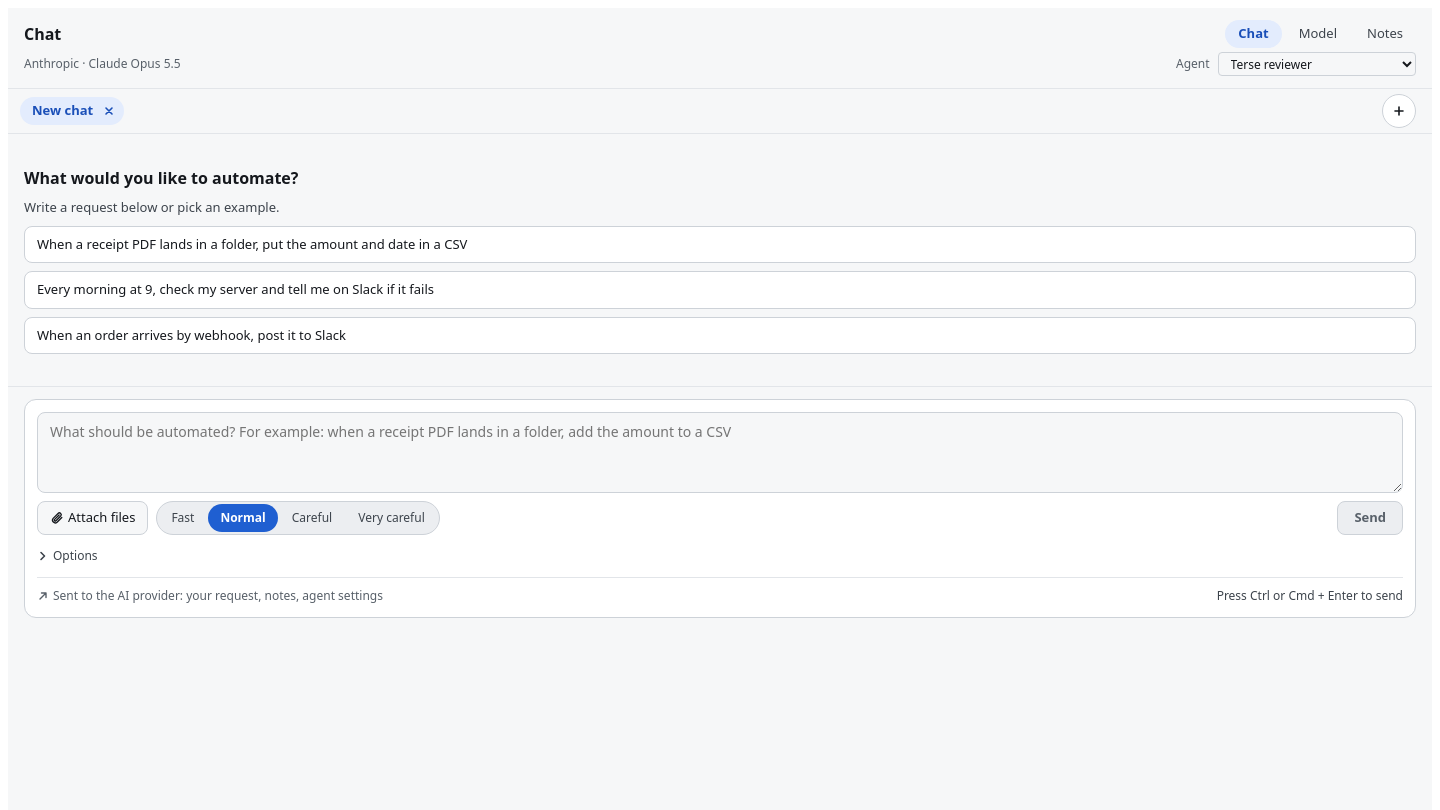
Scenario: plan requests carry the active agent › answers an agent that was deleted elsewhere with the fixed text and a fresh list
Expected: the button "Anthropic · Claude Opus 5.5" is shown, [24,55,1164,73]
Expected: the dropdown labelled "Agent" is shown, [1218,52,1416,76]
Replace the text in the text box named "Your request" with "with an agent that is gone": (720, 452) [37,412,1403,493]
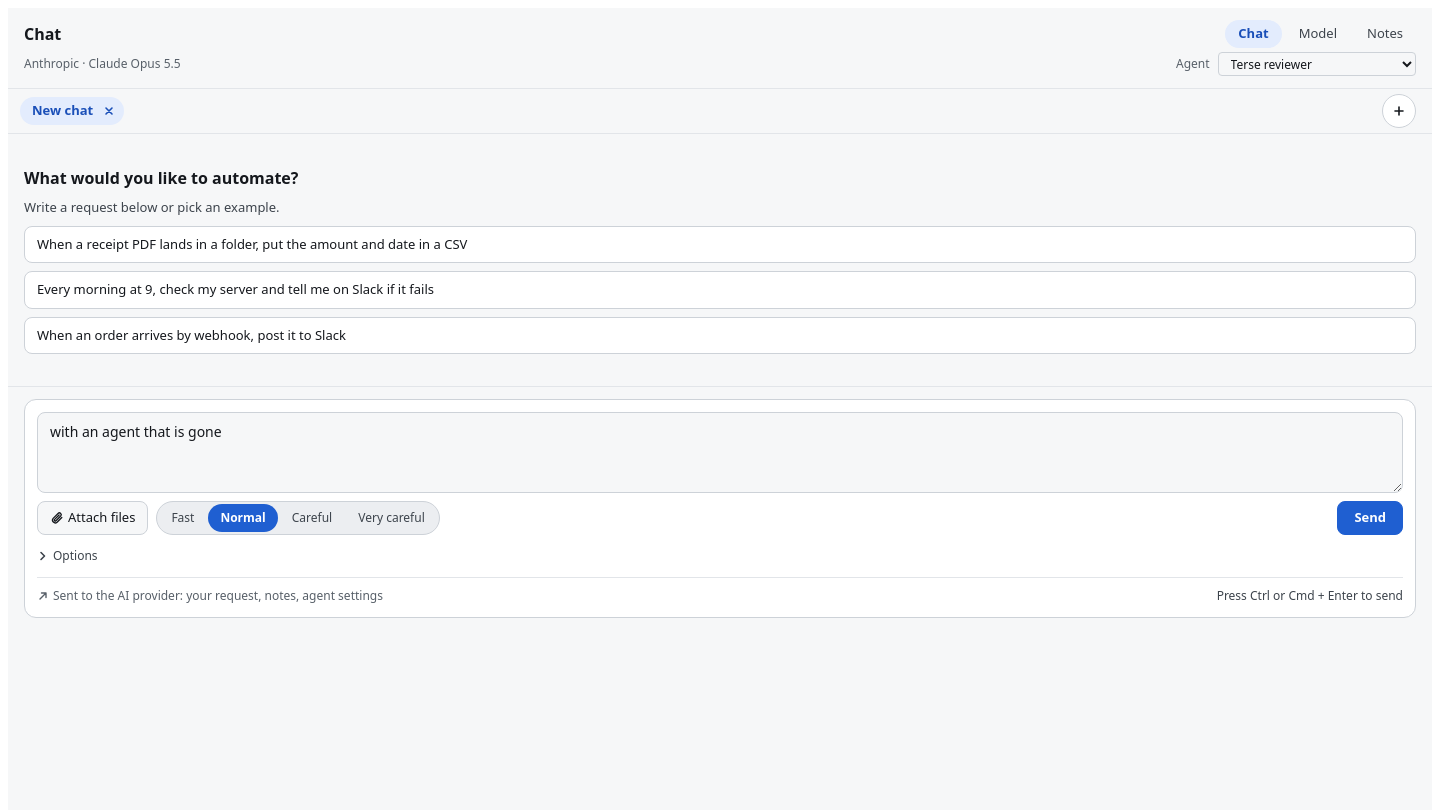
Click the button "Send": click(1370, 518) [1337,501,1403,535]
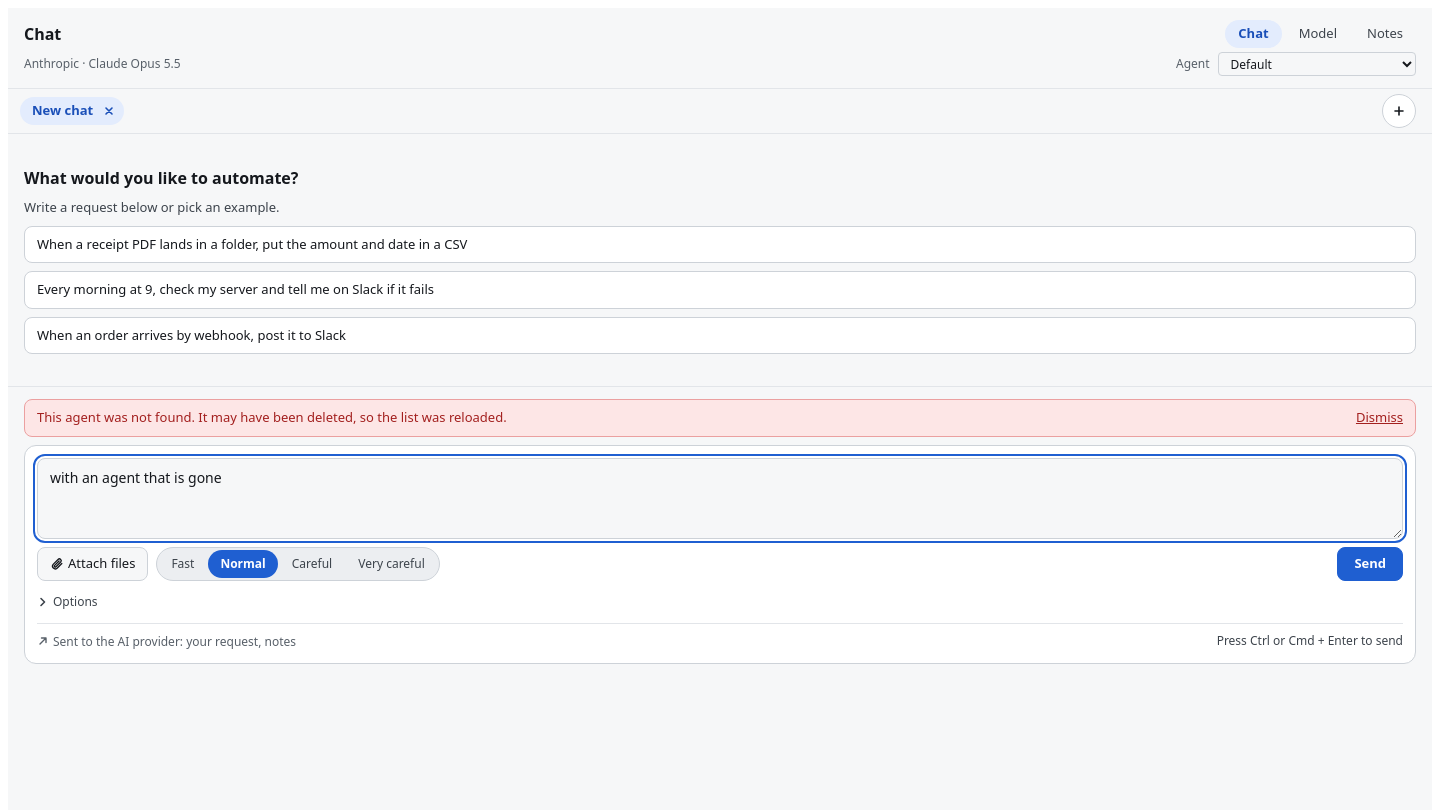
Now the text "This agent was not found. It may have been deleted, so the list was reloaded." is shown, box [37,408,507,428]
Now the dropdown labelled "Agent" shows "Default", box [1218,52,1416,76]
